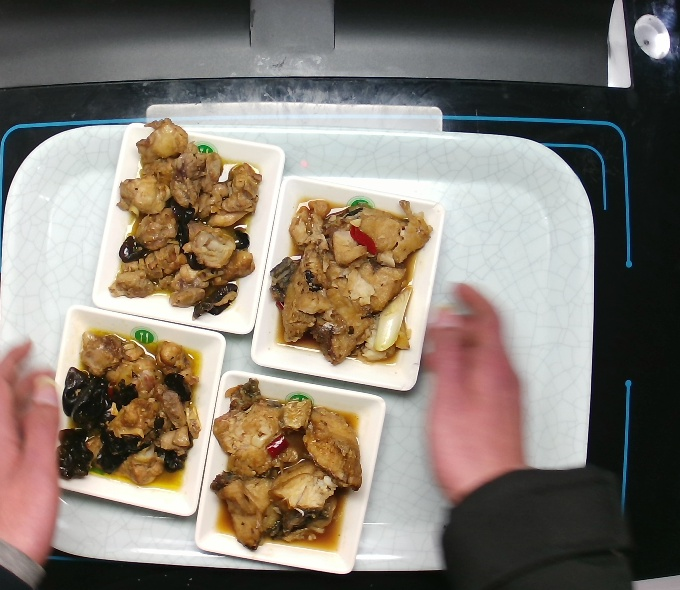wcq-MuErRouKuai: (102, 117, 266, 326), (50, 327, 207, 494)
wcq-YuKuai: (269, 191, 430, 371), (210, 378, 371, 558)
